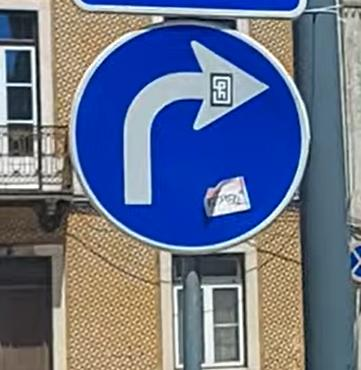sentido obrigatorio: (71, 20, 310, 253)
